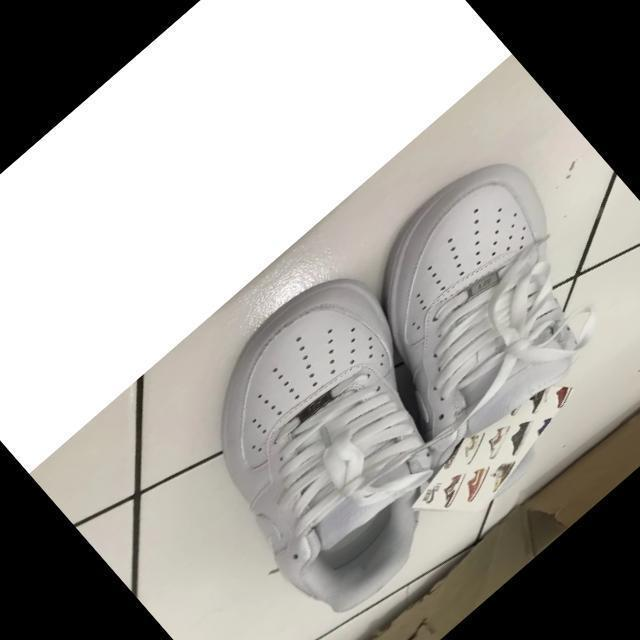nike original air force: (131, 245, 527, 640), (295, 134, 640, 545)
